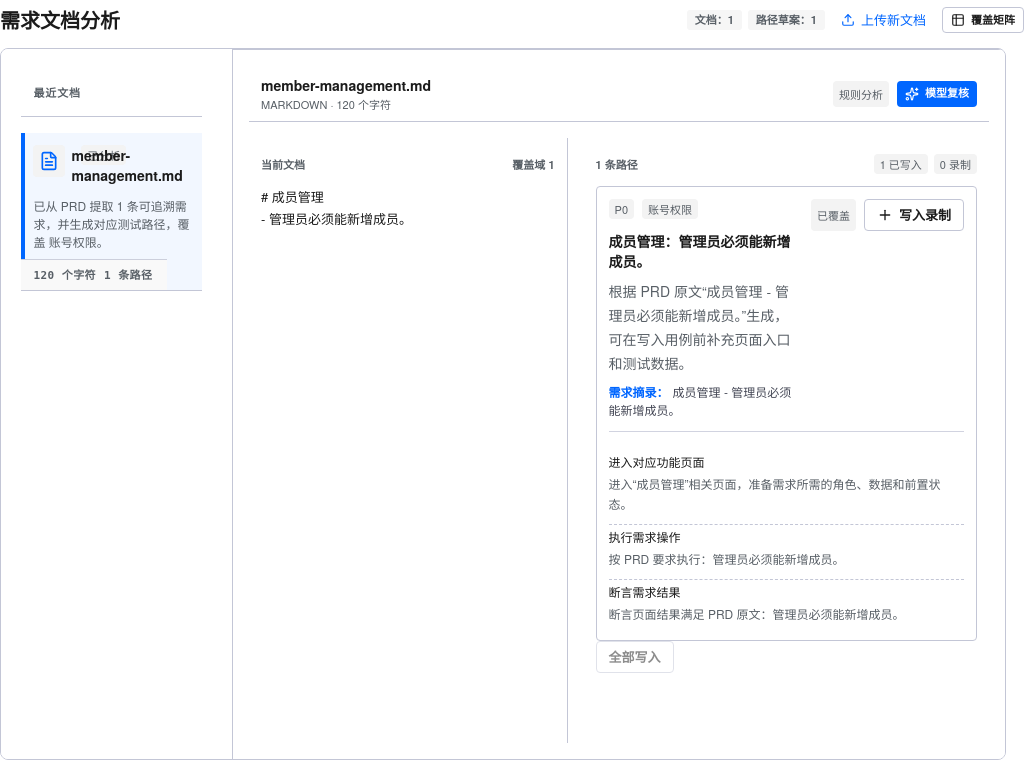
Test: DocumentAnalysisPage › shows a resolved triage state after a governed target gains coverage
Click the button "覆盖矩阵".
click(983, 20)  # box [942,7,1023,33]
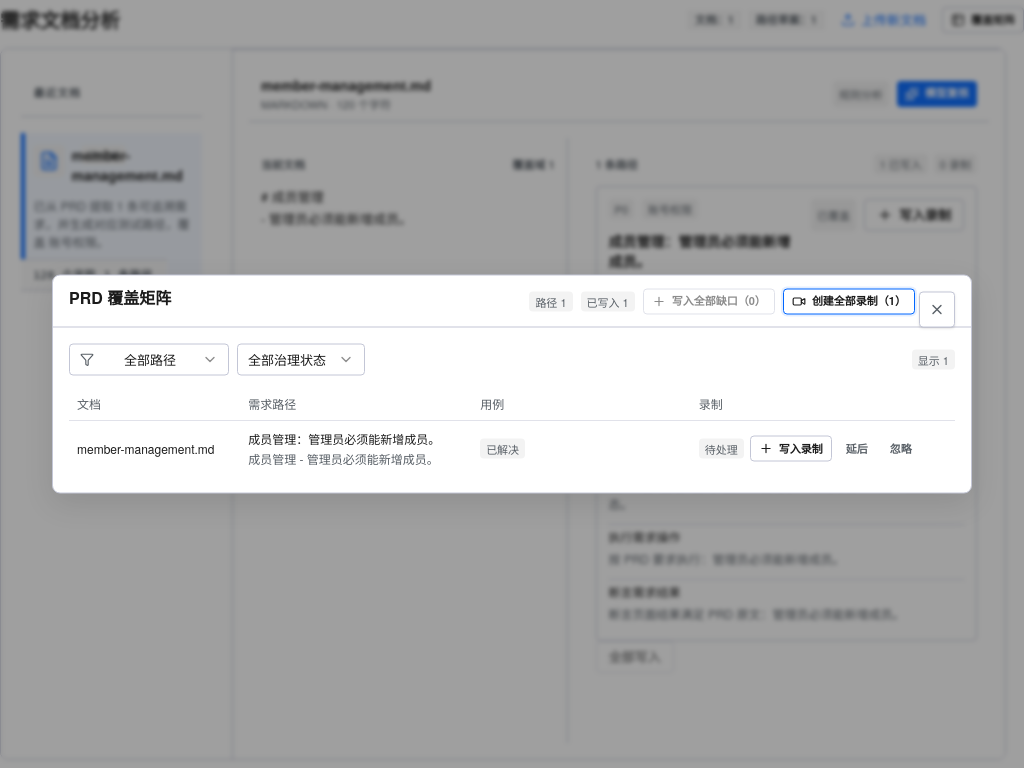
Expected: the text "已解决" is shown, [480,438,525,458]
Expected: the text "待处理" is shown, [699,438,744,458]
